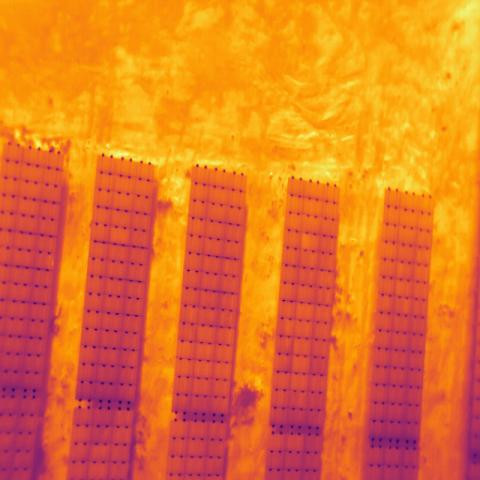fault: (301, 232, 320, 252)
